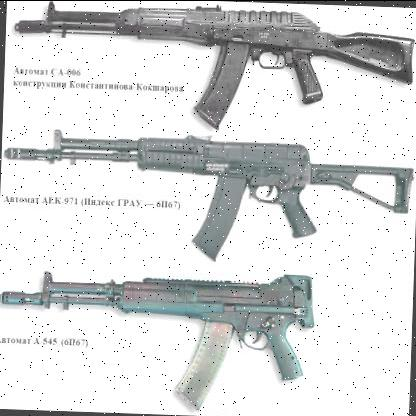rifle: (7, 0, 416, 145), (3, 121, 412, 259), (0, 251, 318, 416)
